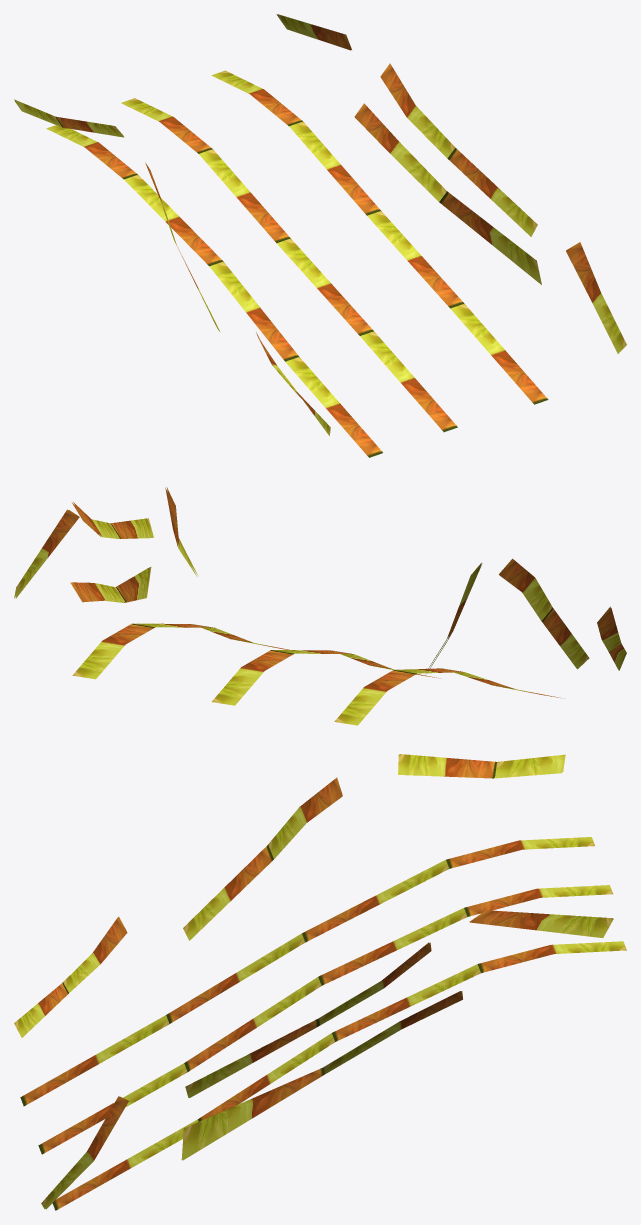
The model's file is tiesuo_001.FBX.
The picture shows the model from 3 angles, top to bottom: view 1: azimuth 30°, elevation 25°; view 2: azimuth 150°, elevation 25°; view 3: azimuth 270°, elevation 25°; orthographic projection. The views are drawn at different scales.
Parts seen in each view (by area): view 1: tiesuo_001; view 2: tiesuo_001; view 3: tiesuo_001.
Boxes of the visible parts, bbox=[...] form: tiesuo_001: bbox=[14, 14, 626, 457]; tiesuo_001: bbox=[14, 487, 626, 725]; tiesuo_001: bbox=[14, 754, 626, 1210].
Size of the model in its own units: 902 by 522 by 1010.
Materials: 1 (1 with a texture image).
